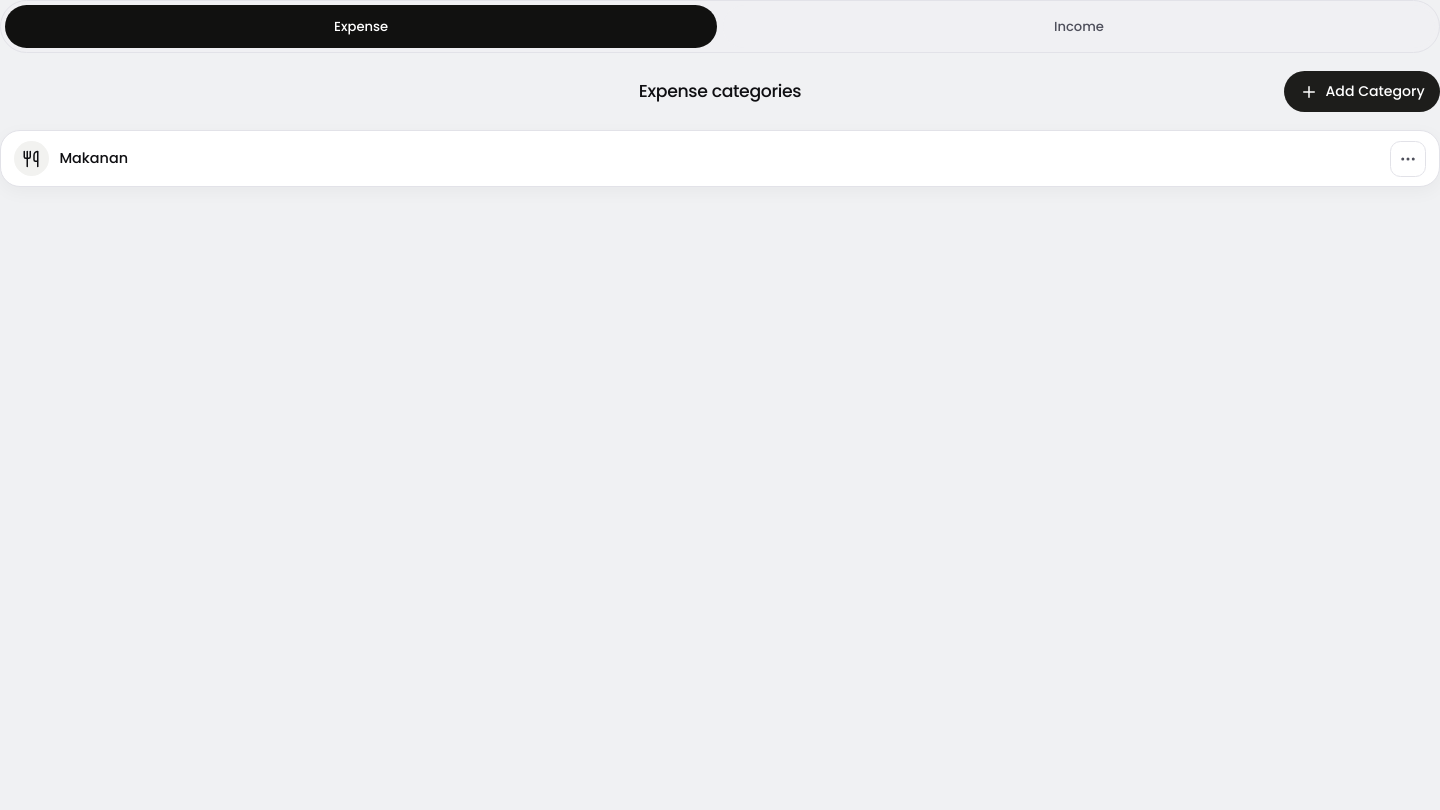
Scenario: category manager › does not allow permanent delete for a referenced or default category
Click the button named "Actions for Makanan" at (1408, 159), box [1390,141,1426,177]
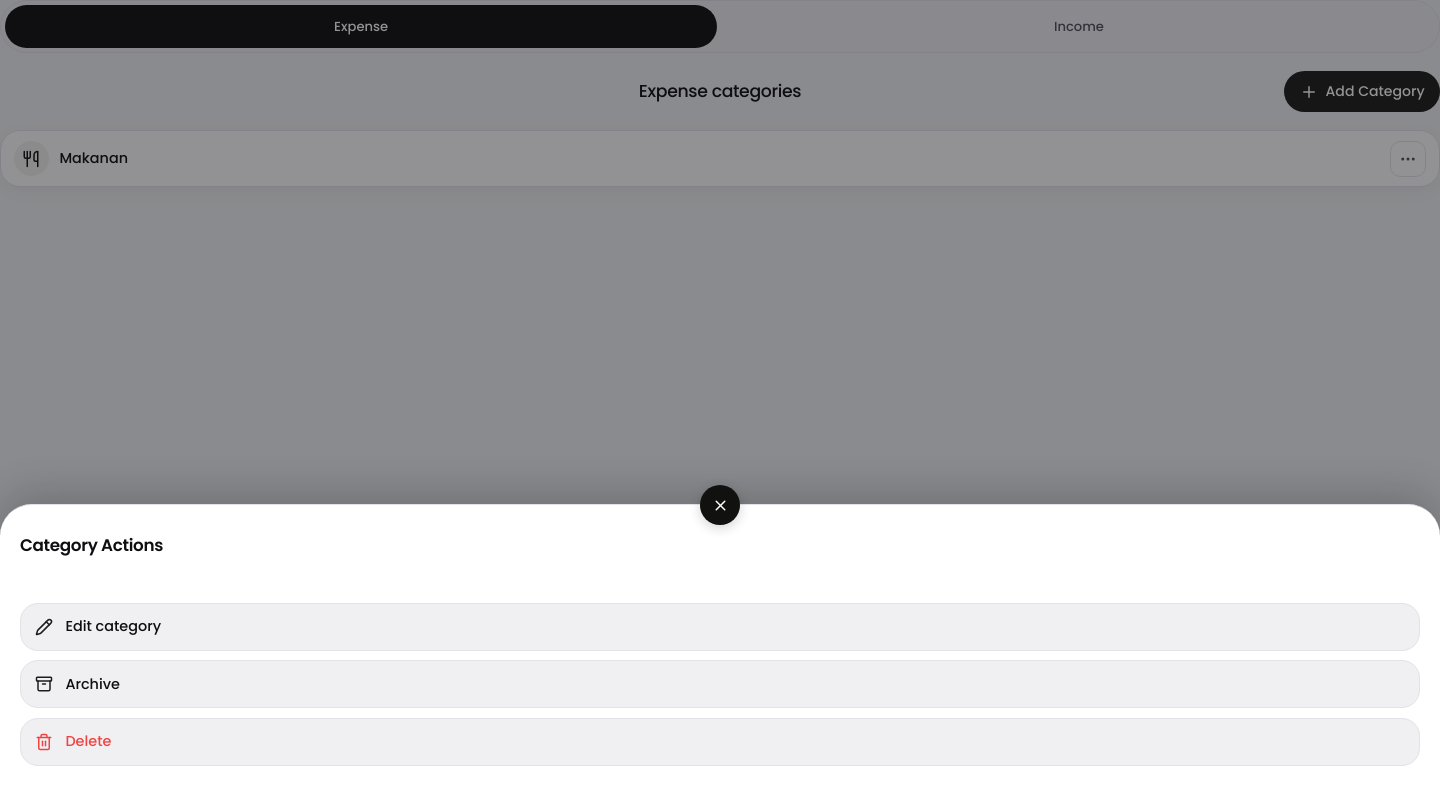
Click the button "Delete" at (88, 741), box [20,718,1420,766]
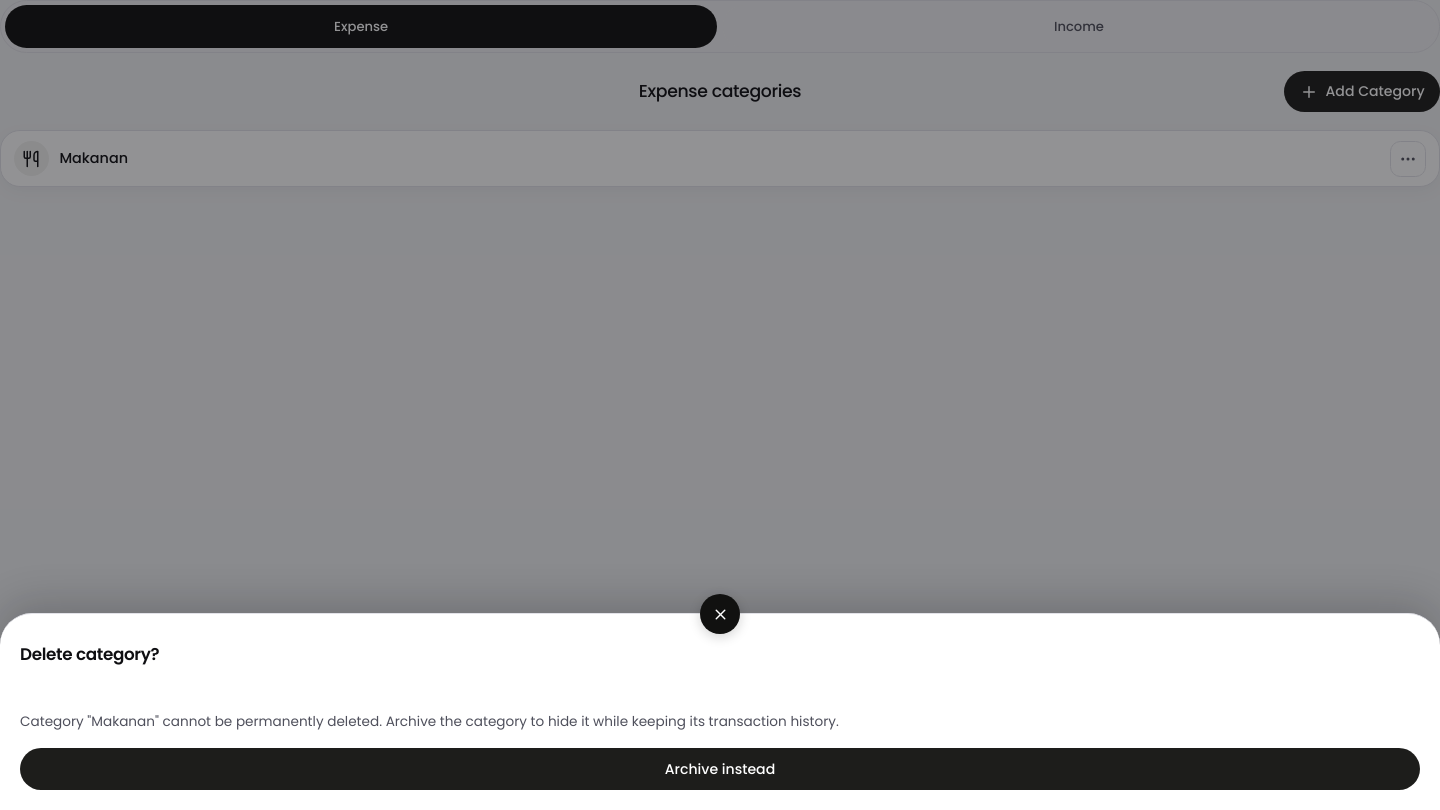
Now the dialog "Delete category?" shows "cannot be permanently deleted", box [20,712,839,731]
